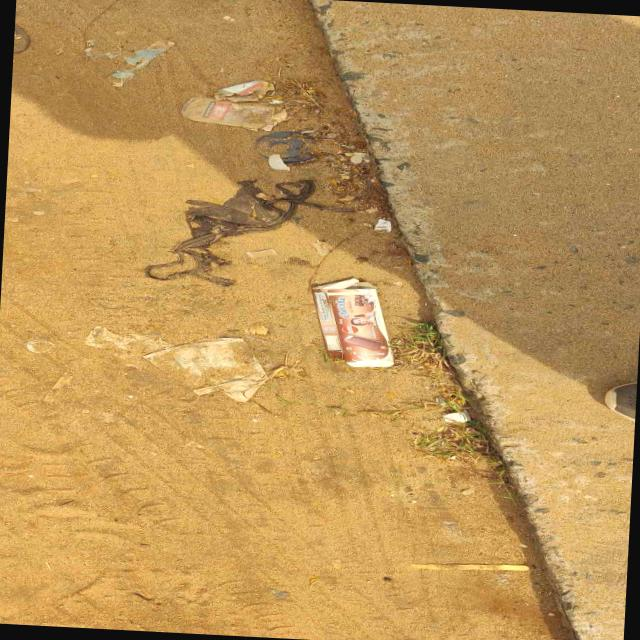giay: (313, 278, 395, 367)
rac_huu_co: (145, 180, 316, 287)
